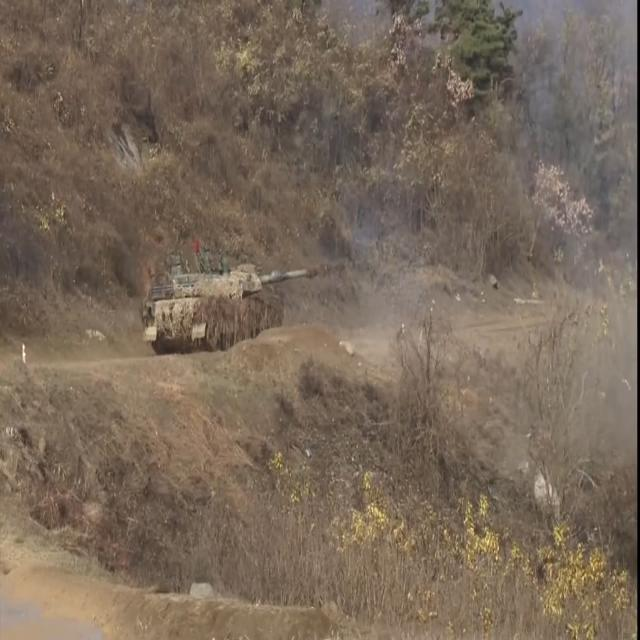korea tank: (133, 240, 347, 365)
